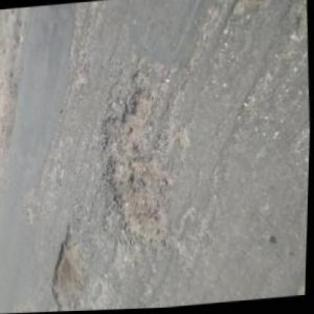Hueco: (91, 67, 177, 245), (47, 220, 92, 311)
